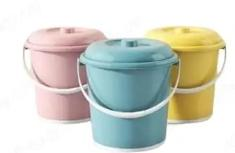SEAU: (2, 6, 235, 153)
